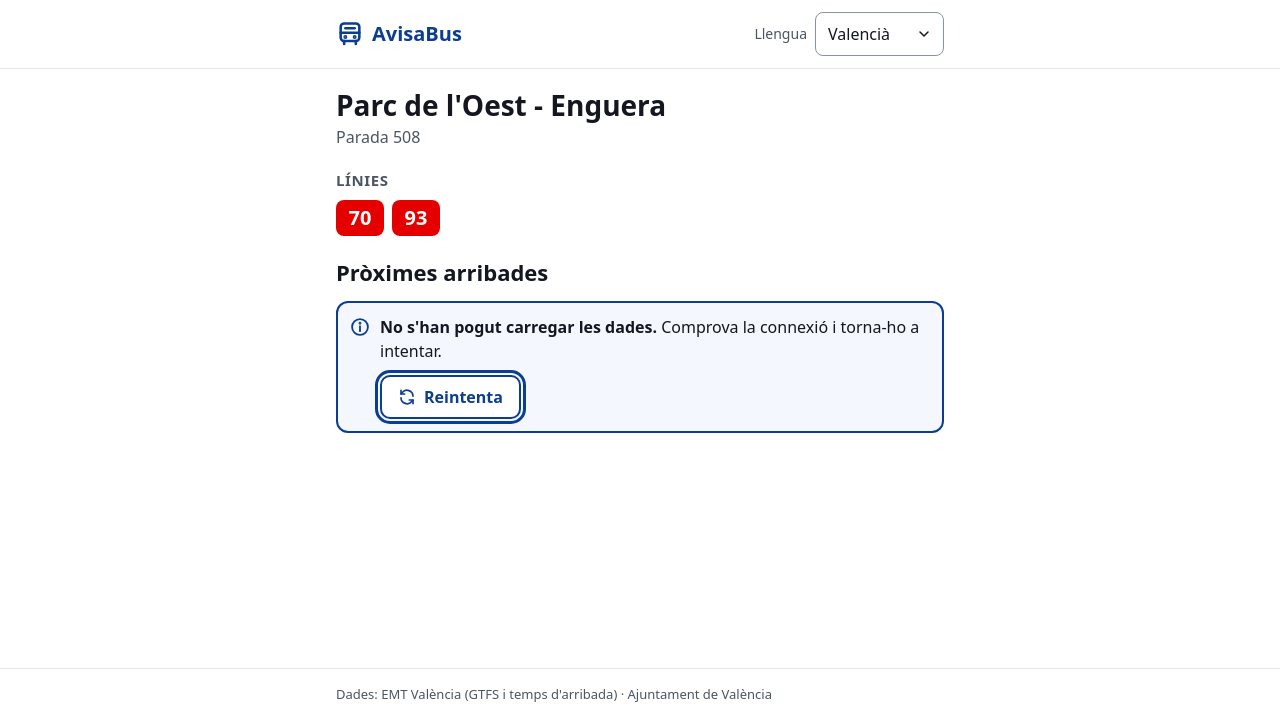
Test: StopPage errors and connectivity › [passenger_stop_view.AC-24] [passenger_stop_view.AC-16] "Reintenta" after a failure of the arrivals answered with a 404 moves the focus to the "Parada no encont
Click the button "Reintenta" at (450, 397), box [380,375,521,419]
Wait 100 ms
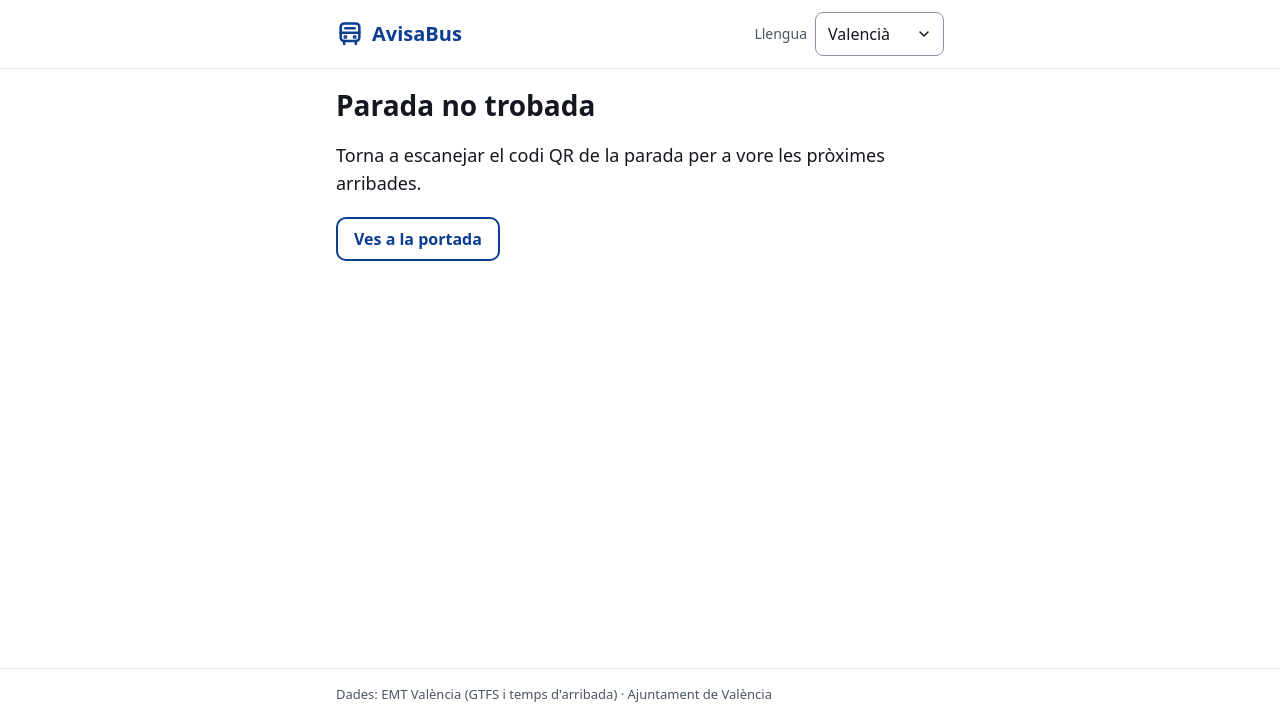
Result: the heading reads "Parada no trobada" at [336,86,595,124]
